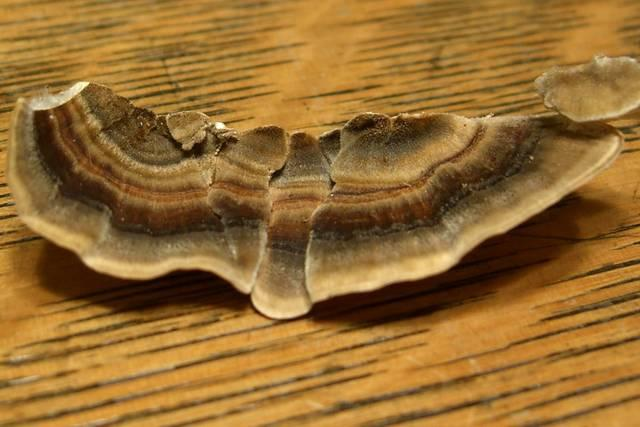poisonous_mushroom: (5, 58, 631, 321)
